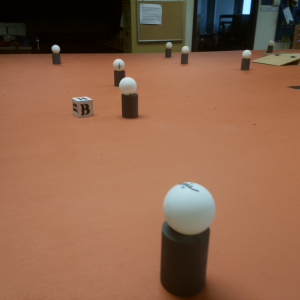blockB: (71, 95, 95, 119)
corner: (292, 24, 300, 50)
obstacle: (158, 182, 212, 298), (118, 76, 139, 120), (112, 58, 127, 76), (51, 45, 63, 65), (241, 50, 252, 70), (163, 42, 174, 59), (180, 47, 190, 64), (265, 39, 275, 53)
slope: (255, 54, 299, 66)
start: (285, 80, 300, 94)
